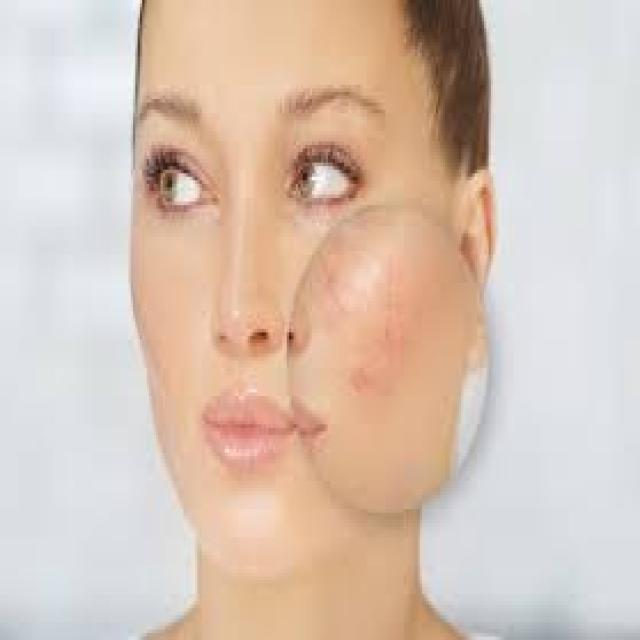Rosacea: (336, 250, 454, 403)
